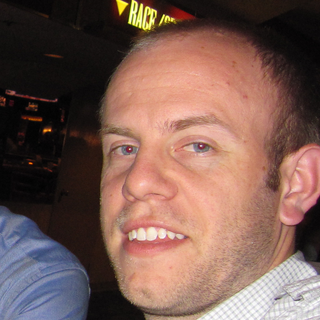eye: (174, 135, 223, 159), (107, 140, 147, 163)
